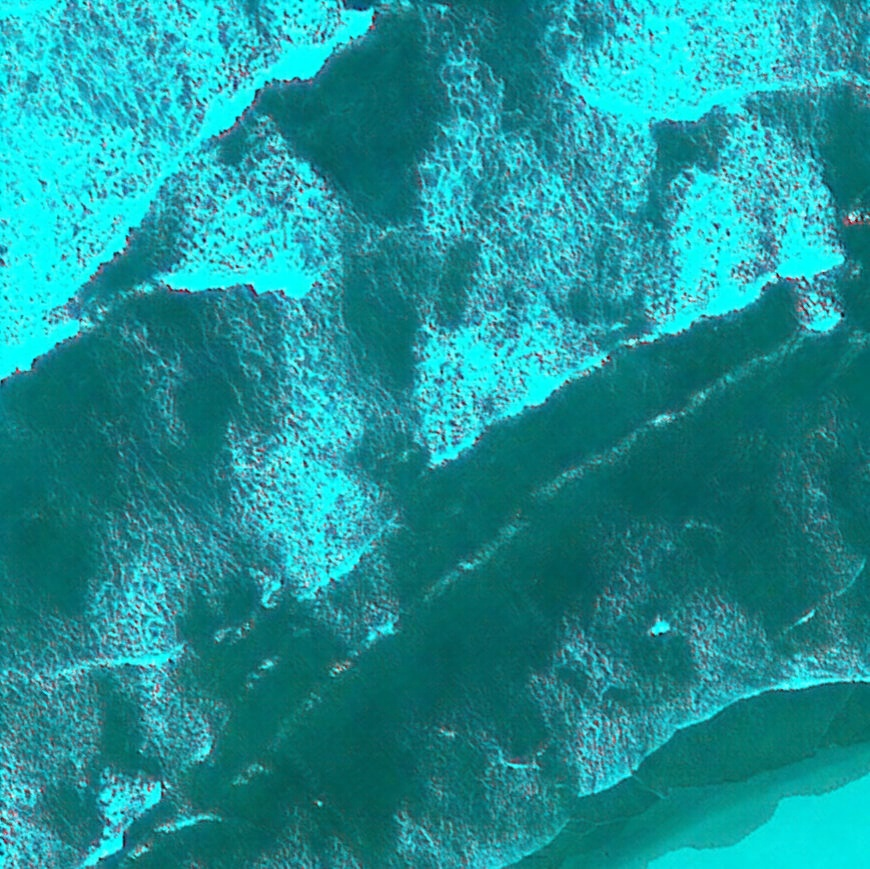rip_current: (287, 90, 477, 542)
